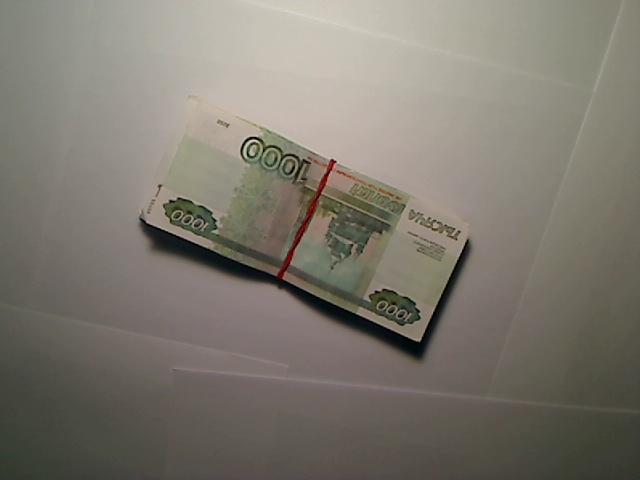banknotes: (134, 89, 474, 348)
